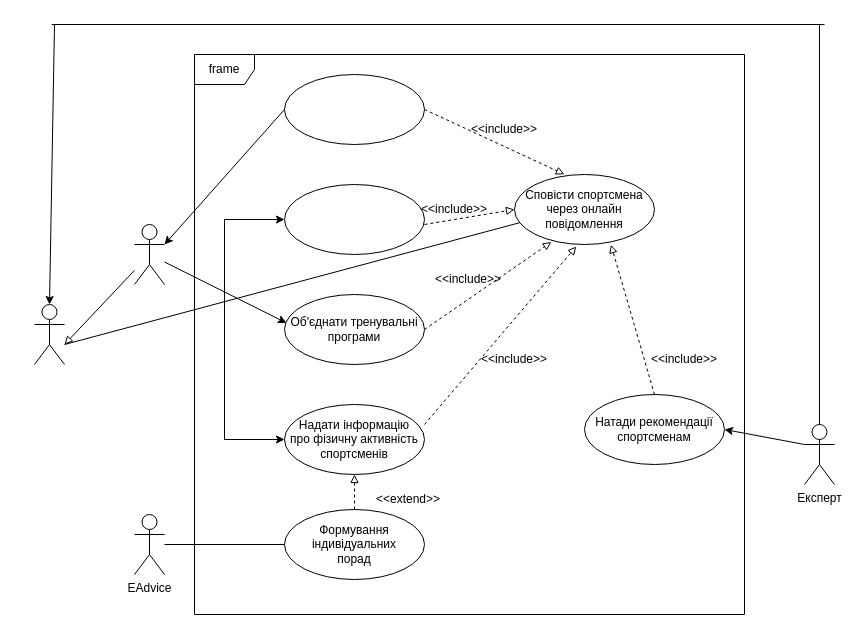
Some shapes in this 859 by 632 pixel diagram are drawn without their labels. Each missing label, with the centre of its shape:
Користувач: point (49, 334)
Отримати список тренувальних програм: point (354, 109)
Спортсмен: point (149, 254)
Створити план тренувальних програм: point (354, 219)
